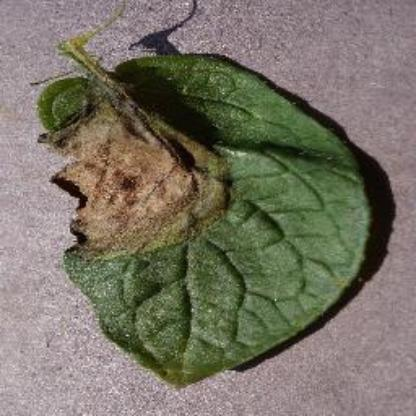Late-Blight: (26, 16, 380, 392)
